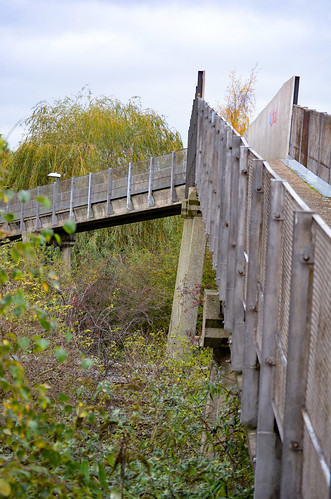bridge: (7, 97, 331, 463)
sky: (1, 1, 331, 93)
tree: (14, 96, 185, 265)
